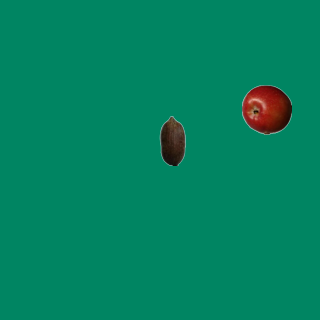Apple Braeburn: (241, 84, 291, 134)
Nut Pecan: (147, 115, 197, 165)
